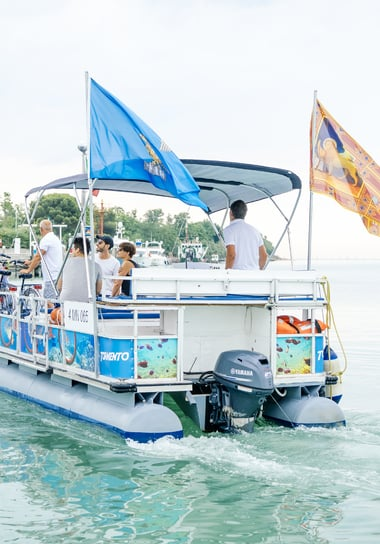Flag: (78, 67, 220, 218), (305, 86, 380, 240)
